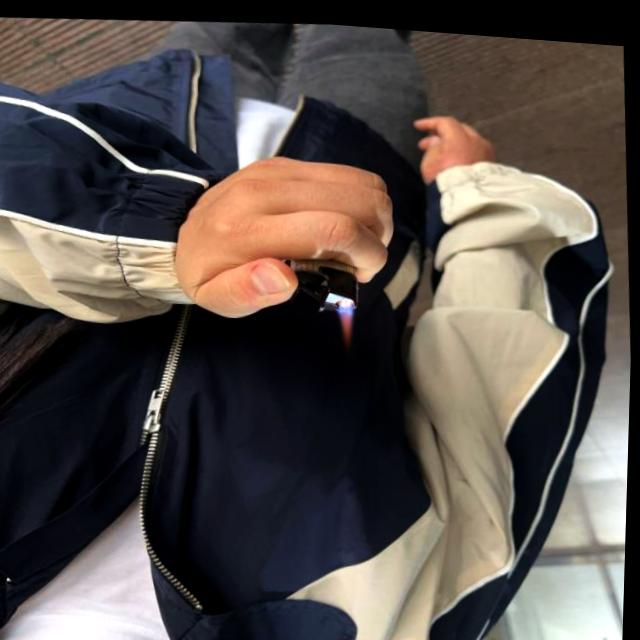Fire: (339, 291, 359, 345)
